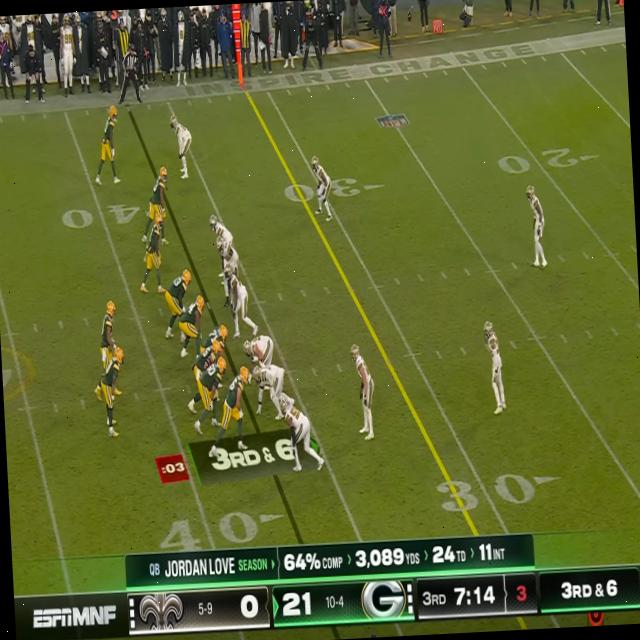Player: (280, 396, 320, 468), (219, 366, 252, 451), (350, 342, 377, 442), (100, 346, 128, 440), (93, 103, 121, 184), (198, 355, 229, 425), (486, 320, 506, 416), (252, 362, 284, 420), (142, 214, 165, 294), (527, 185, 548, 268), (224, 266, 250, 329), (170, 112, 193, 180), (178, 293, 205, 349), (147, 167, 170, 226), (98, 298, 119, 361), (312, 154, 332, 220), (163, 268, 192, 311), (242, 332, 275, 366), (194, 338, 221, 370), (210, 211, 233, 244), (217, 236, 240, 269), (206, 323, 228, 346)
Referee: (121, 43, 142, 104)
